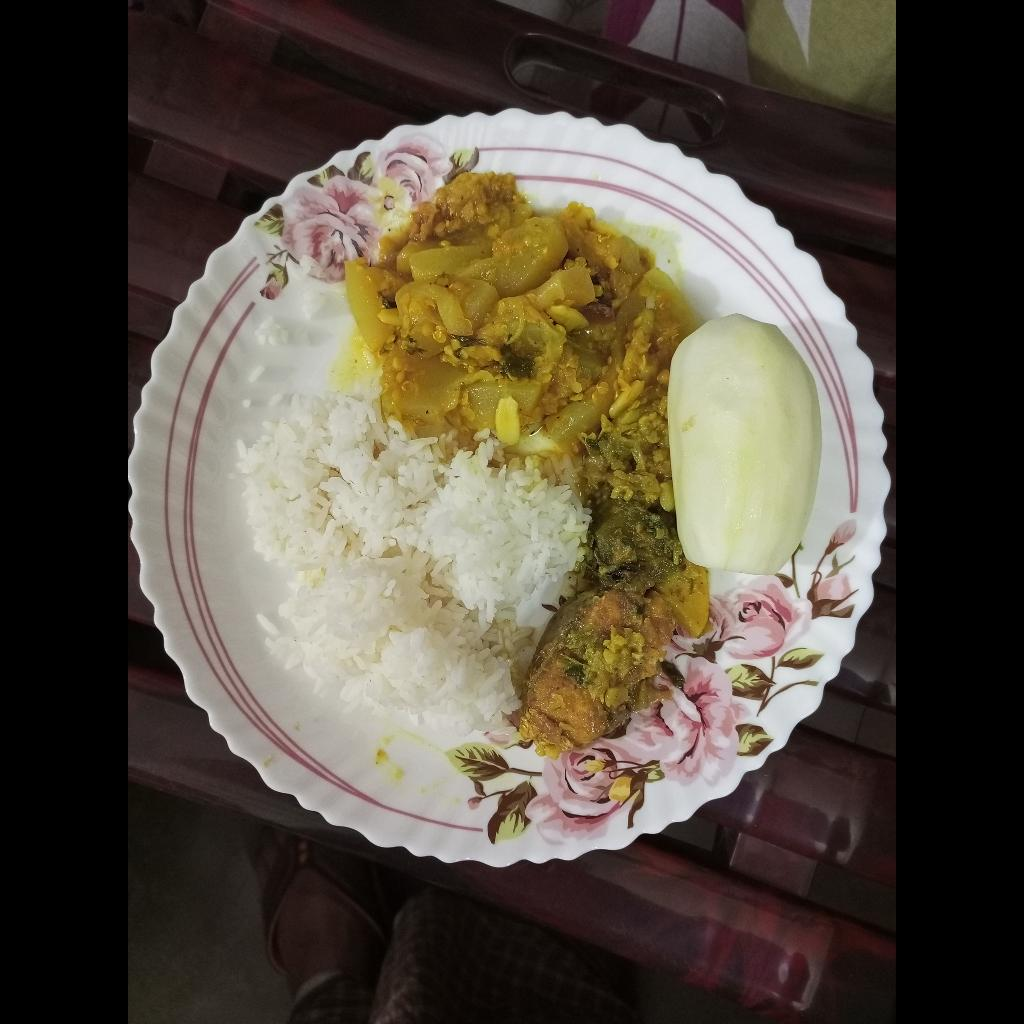cucumber: (667, 312, 824, 580)
fish: (517, 579, 679, 757)
lau: (345, 168, 698, 524)
potato: (653, 568, 713, 643)
rice: (238, 374, 588, 736)
shak: (595, 485, 676, 589)
